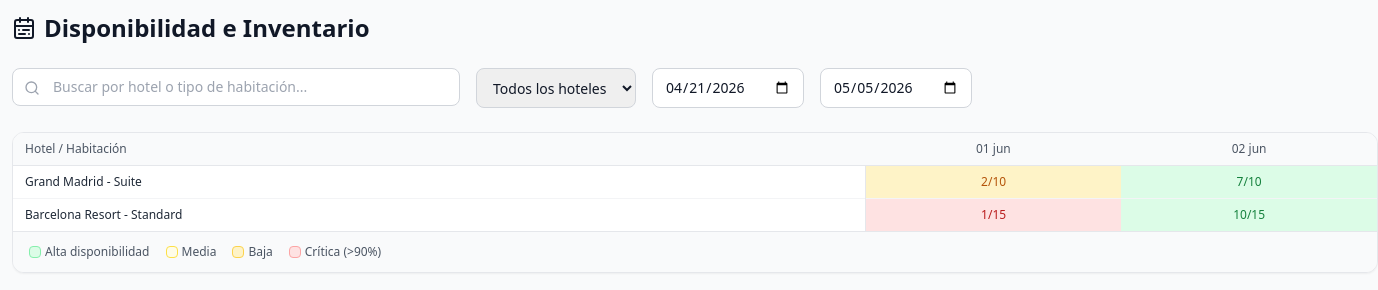
AvailabilityPage › should filter by search text - hotel name
Expected: the text "Grand Madrid - Suite" is shown, [13, 166, 866, 198]
Type "barcelona" into the field with placeholder "Buscar por hotel o tipo de habitación...". click: (236, 87)
box: [12, 68, 460, 106]
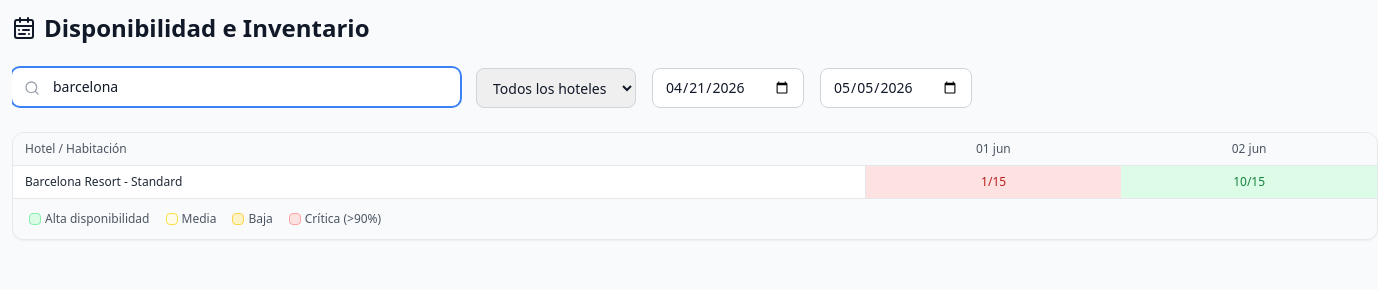
Expected: the text "Barcelona Resort - Standard" is shown, [13, 166, 866, 198]
Expected: the text "Grand Madrid - Suite" is gone
